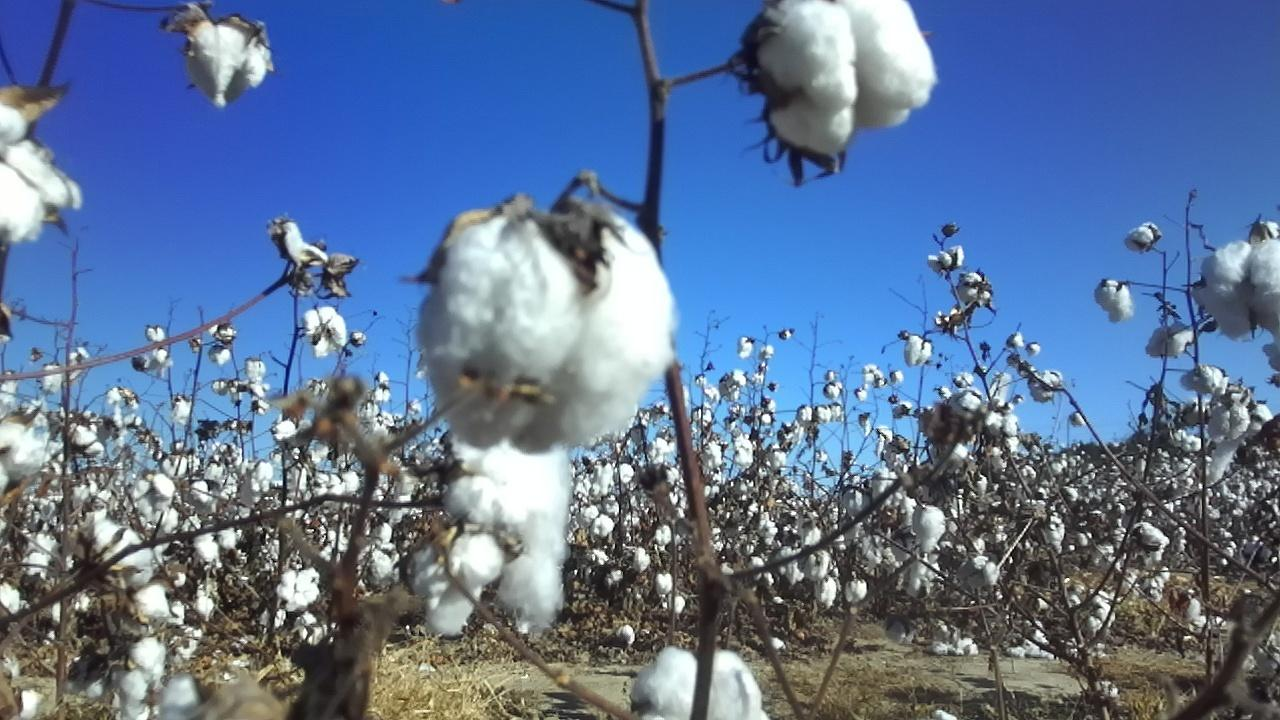cotton_ready: (419, 215, 677, 455), (762, 0, 935, 157), (443, 426, 565, 630), (0, 102, 82, 244), (412, 526, 503, 637), (636, 650, 774, 720), (1202, 242, 1280, 342), (188, 17, 267, 107), (72, 637, 164, 699), (88, 522, 157, 585), (0, 425, 44, 497)
